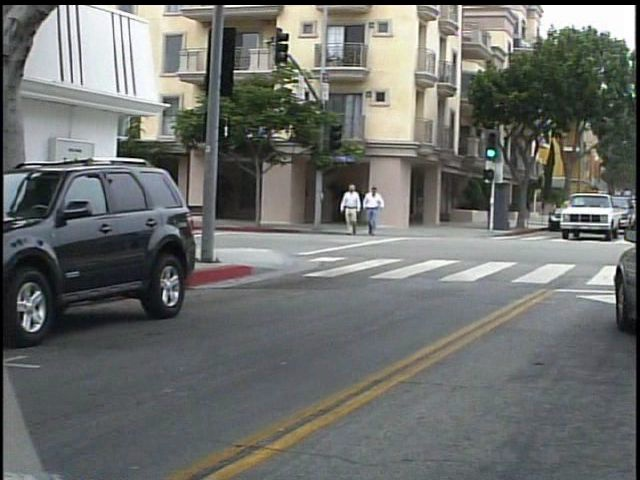person: (346, 180, 370, 243), (367, 183, 393, 241)
